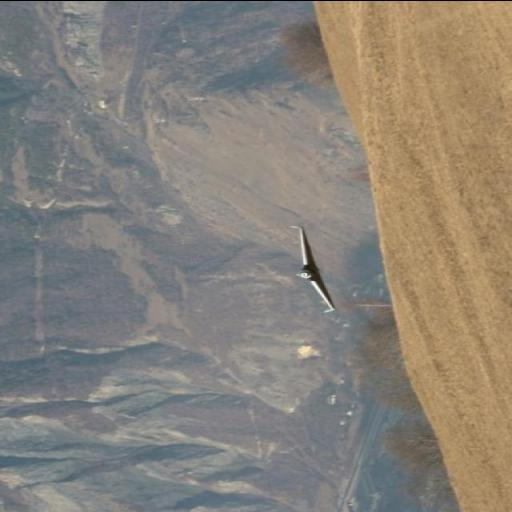uav: (270, 224, 356, 316)
